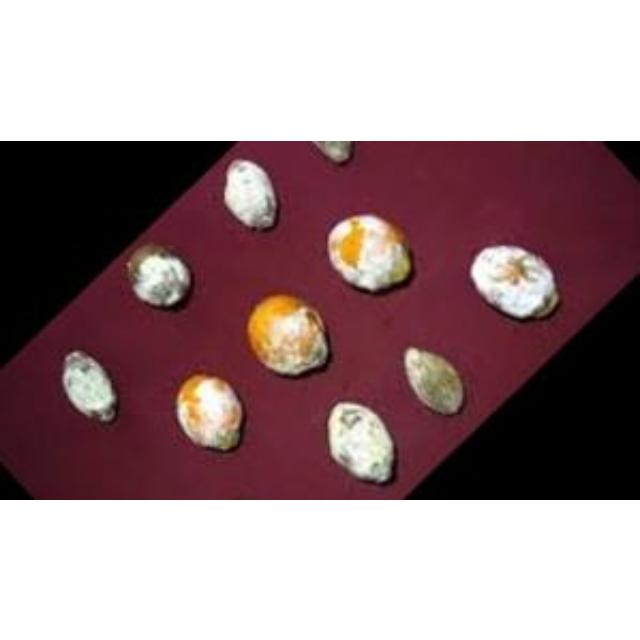damaged: (246, 292, 332, 380), (325, 213, 415, 296), (471, 243, 563, 324), (327, 401, 400, 485), (176, 373, 246, 455), (124, 243, 195, 311), (60, 350, 122, 425), (223, 157, 283, 232), (402, 350, 469, 416)
